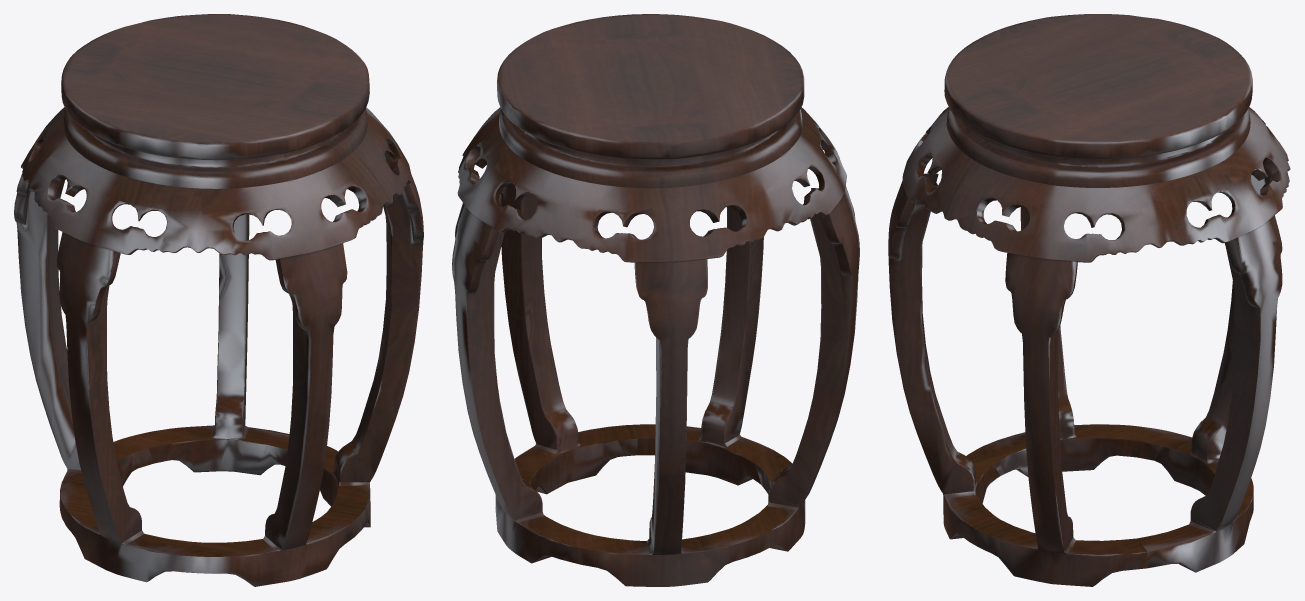
File: raw_model.obj
3 renders of one model, left to right at view 1: azimuth 30°, elevation 25°; view 2: azimuth 150°, elevation 25°; view 3: azimuth 270°, elevation 25°, orthographic.
Visible parts, largest first — view 1: solid; view 2: solid; view 3: solid.
Part boxes in pixels (x1=…): solid: x1=14, y1=14, x2=423, y2=586; solid: x1=452, y1=14, x2=859, y2=586; solid: x1=888, y1=14, x2=1290, y2=586.
Size of the model in its own units: 0.4248 by 0.5069 by 0.4164.
Materials: 1 (1 with a texture image).
